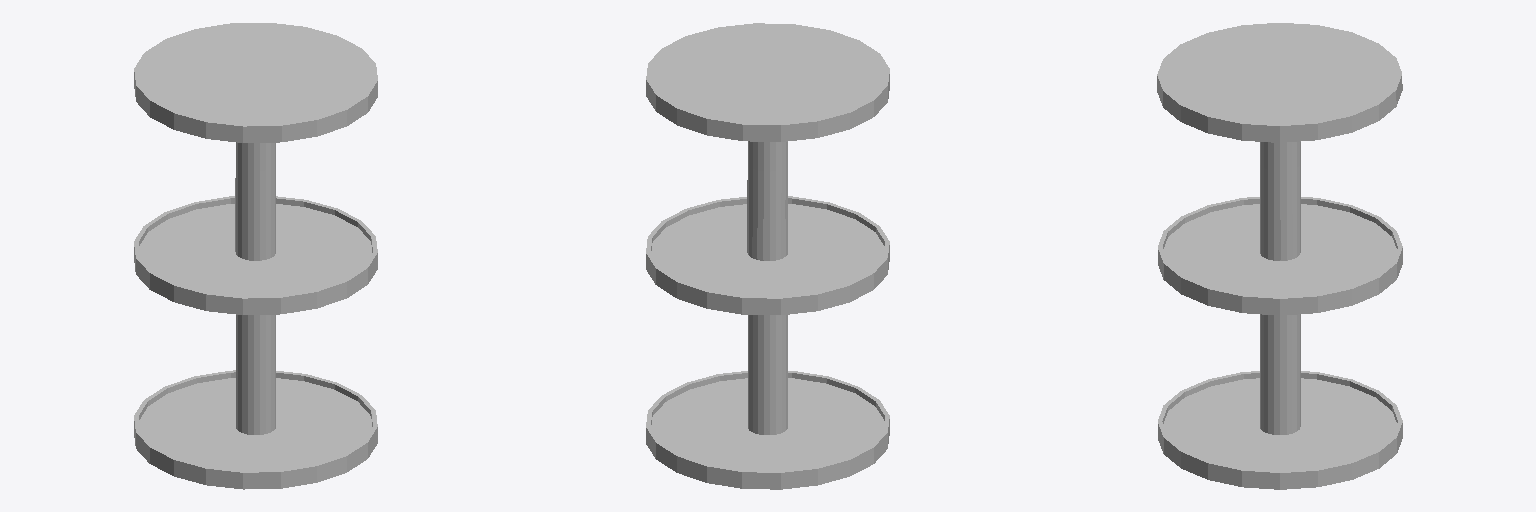
The model's file is circularShelf_OBJ.obj.
3 views of the same model, side by side, from view 1: azimuth 30°, elevation 25°; view 2: azimuth 150°, elevation 25°; view 3: azimuth 270°, elevation 25° (orthographic).
Visible parts, largest first — view 1: pCylinder2, pCylinder1, pCylinder3; view 2: pCylinder1, pCylinder2, pCylinder3; view 3: pCylinder1, pCylinder2, pCylinder3.
Boxes of the visible parts, <box> form: pCylinder2: <box>134,315,377,489</box>; pCylinder1: <box>134,23,377,254</box>; pCylinder3: <box>134,142,377,314</box>; pCylinder1: <box>646,23,889,259</box>; pCylinder2: <box>646,315,889,489</box>; pCylinder3: <box>646,141,889,314</box>; pCylinder1: <box>1157,23,1402,259</box>; pCylinder2: <box>1158,314,1402,489</box>; pCylinder3: <box>1158,142,1402,315</box>.
Bounding box in the file's own units: 3.32 × 5.43 × 3.32.